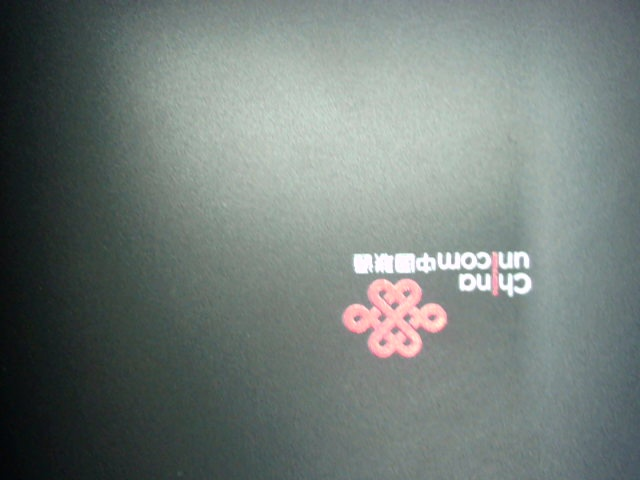AC_ChinaUnicom: (316, 240, 540, 360)
